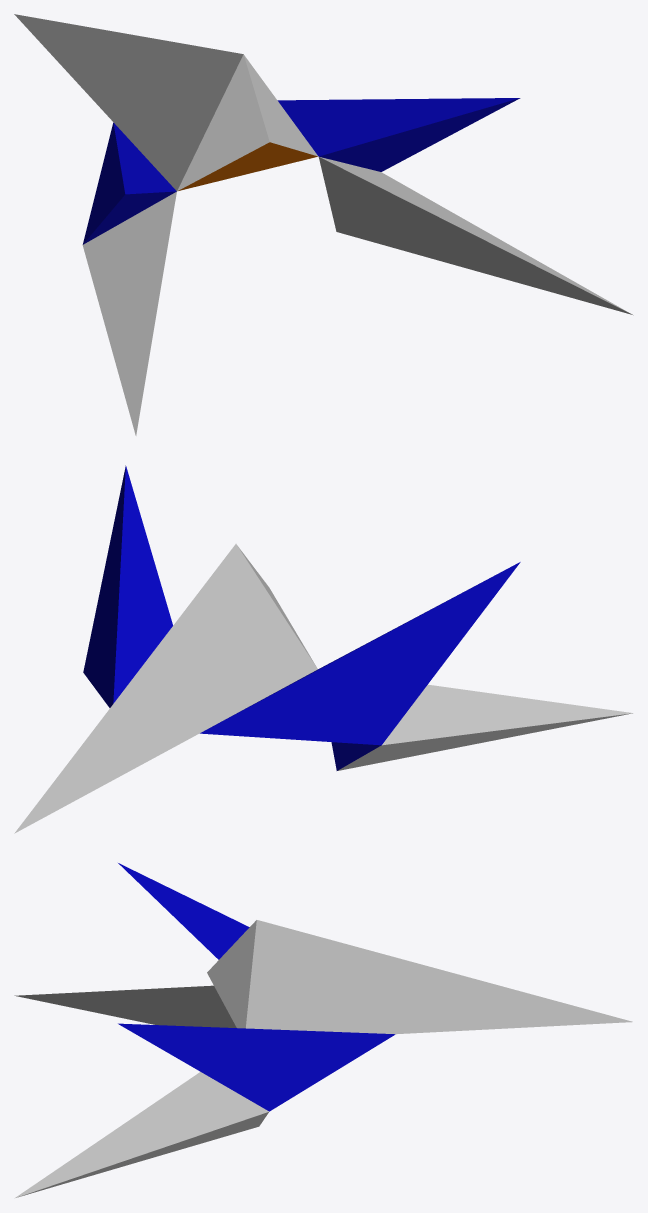
The model's file is starship.obj.
The picture shows the model from 3 angles, top to bottom: view 1: azimuth 30°, elevation 25°; view 2: azimuth 150°, elevation 25°; view 3: azimuth 270°, elevation 25°; orthographic projection. The views are drawn at different scales.
Parts seen in each view (by area): view 1: Mesh_starship; view 2: Mesh_starship; view 3: Mesh_starship.
Boxes of the visible parts, x1,y1,x2,y2 form: Mesh_starship: [14, 14, 633, 435]; Mesh_starship: [14, 465, 633, 833]; Mesh_starship: [14, 863, 632, 1198].
Bounding box in the file's own units: 1.52 × 0.6278 × 1.97.
